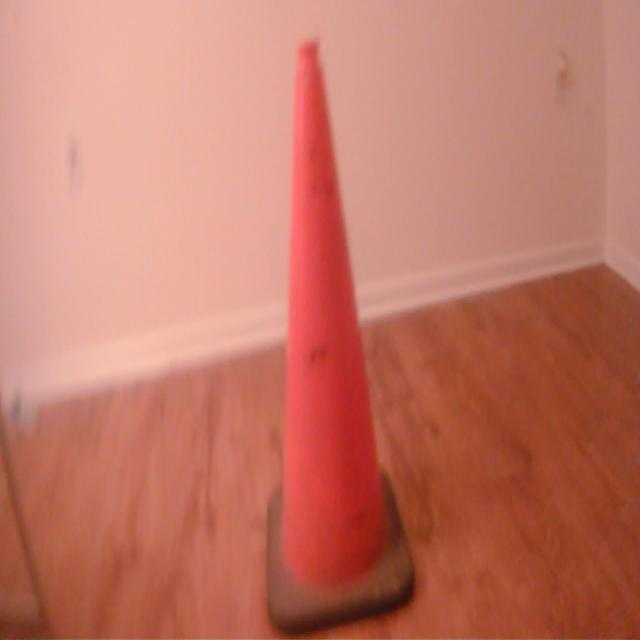traffic cone: (257, 28, 423, 640)
